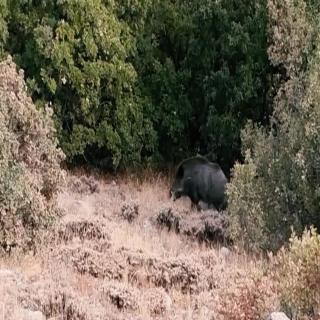Pig: (190, 157, 233, 224)
